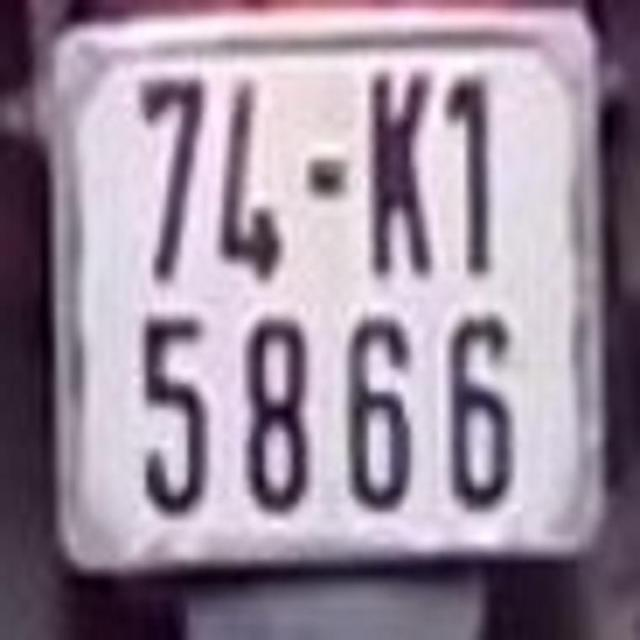1: (440, 63, 494, 280)
4: (216, 71, 292, 284)
5: (139, 309, 212, 522)
6: (443, 308, 516, 508), (345, 312, 411, 510)
7: (131, 71, 208, 280)
8: (236, 312, 314, 511)
K: (361, 63, 436, 276)
